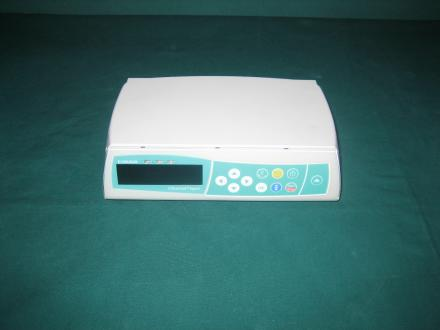BBraun Infusomat Space: (100, 70, 342, 207)
